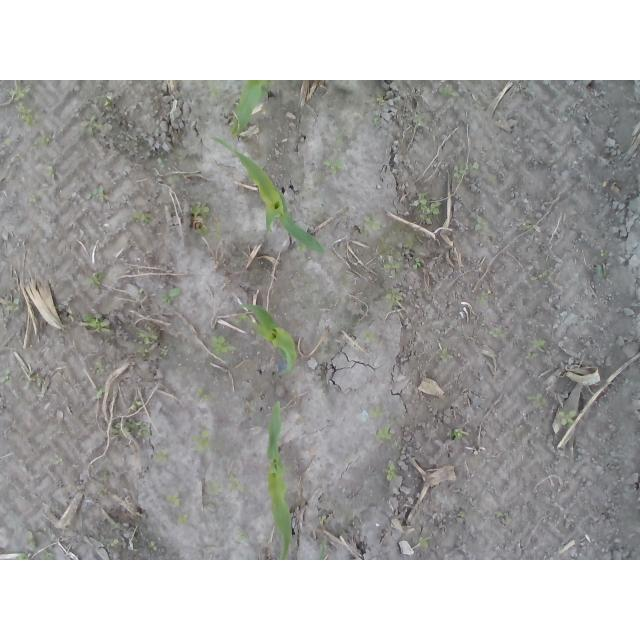Maize: (211, 137, 326, 256), (265, 400, 293, 561), (240, 303, 301, 375), (229, 81, 269, 136)
Weeds: (8, 85, 40, 128), (134, 328, 169, 360), (416, 191, 440, 225), (112, 418, 152, 438), (82, 313, 112, 334), (448, 160, 481, 179), (80, 112, 105, 136), (591, 255, 609, 288), (376, 424, 400, 448), (192, 431, 217, 453), (209, 335, 235, 354), (160, 287, 183, 305), (86, 183, 109, 201), (324, 159, 344, 177), (559, 407, 577, 426), (194, 385, 215, 401), (190, 200, 210, 216), (364, 214, 384, 230), (438, 83, 460, 97), (210, 216, 222, 241), (385, 288, 402, 305), (401, 232, 418, 249), (206, 480, 224, 496), (416, 536, 432, 553), (176, 509, 193, 525), (86, 271, 103, 287), (133, 210, 151, 225), (383, 462, 397, 481), (473, 216, 488, 233), (383, 255, 401, 269), (527, 393, 545, 407), (0, 367, 12, 386), (153, 449, 169, 463), (96, 95, 112, 109), (229, 474, 242, 491), (166, 495, 183, 508), (370, 111, 382, 129), (368, 406, 384, 419), (194, 224, 209, 237), (24, 530, 36, 546), (208, 80, 220, 96), (235, 528, 249, 541), (529, 271, 547, 281), (439, 345, 450, 361), (415, 112, 425, 129), (32, 135, 49, 145), (528, 339, 545, 349), (362, 330, 375, 343), (155, 156, 169, 168), (450, 428, 462, 441), (519, 221, 533, 232), (129, 400, 143, 411), (232, 316, 249, 325), (479, 291, 489, 306), (7, 303, 21, 313), (95, 360, 105, 374), (318, 515, 330, 526), (111, 538, 123, 549), (297, 243, 307, 256), (48, 160, 56, 176), (15, 552, 30, 560), (319, 544, 326, 561), (487, 175, 498, 185), (376, 94, 386, 105), (54, 455, 64, 466), (489, 330, 501, 339), (100, 470, 110, 480), (100, 487, 109, 498), (148, 541, 157, 552), (2, 138, 14, 145), (247, 320, 257, 328), (30, 194, 38, 203), (246, 143, 257, 149), (495, 512, 505, 518), (415, 260, 422, 268), (457, 511, 464, 518)
